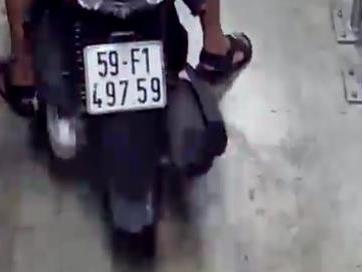num_plate: (82, 39, 165, 113)
